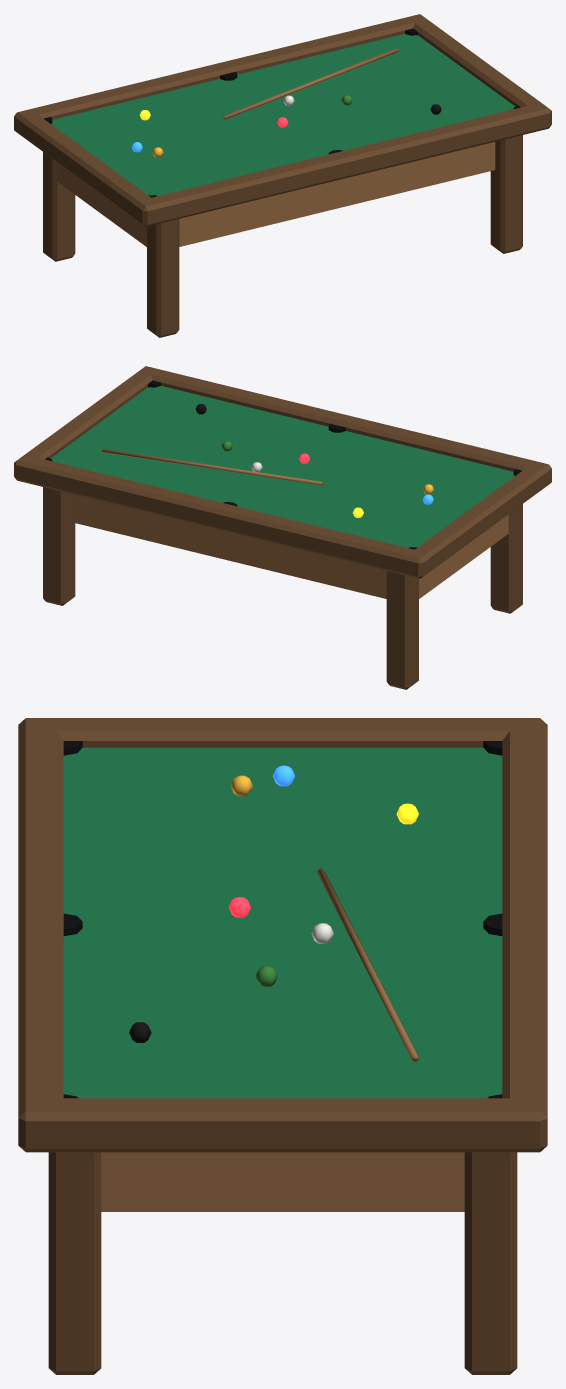
The model's file is pool_table.glb.
The picture shows the model from 3 angles, top to bottom: view 1: azimuth 30°, elevation 25°; view 2: azimuth 150°, elevation 25°; view 3: azimuth 270°, elevation 25°; orthographic projection. The views are drawn at different scales.
Parts seen in each view (by area): view 1: pool_table; view 2: pool_table; view 3: pool_table.
Part boxes in pixels (left/top/right/bottom): pool_table: left=14, top=14, right=551, bottom=337; pool_table: left=14, top=366, right=551, bottom=689; pool_table: left=18, top=718, right=547, bottom=1374.
Bounding box in the file's own units: 2.5 × 0.85 × 1.4.
